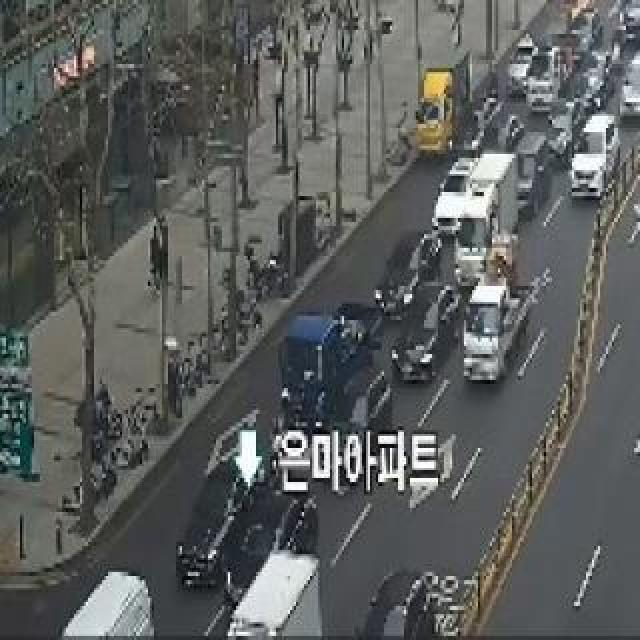truck: (280, 292, 384, 468), (462, 244, 536, 402), (453, 144, 519, 304), (416, 46, 476, 158)
